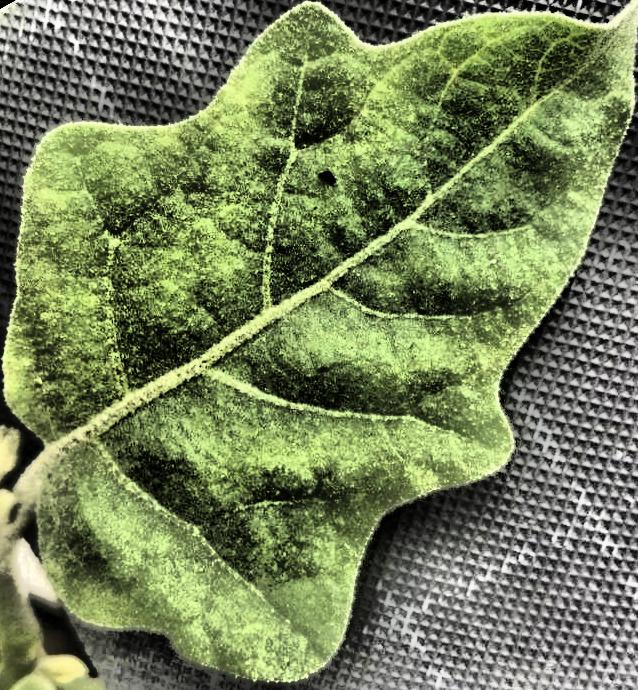HEALTHY: (0, 1, 638, 690)
